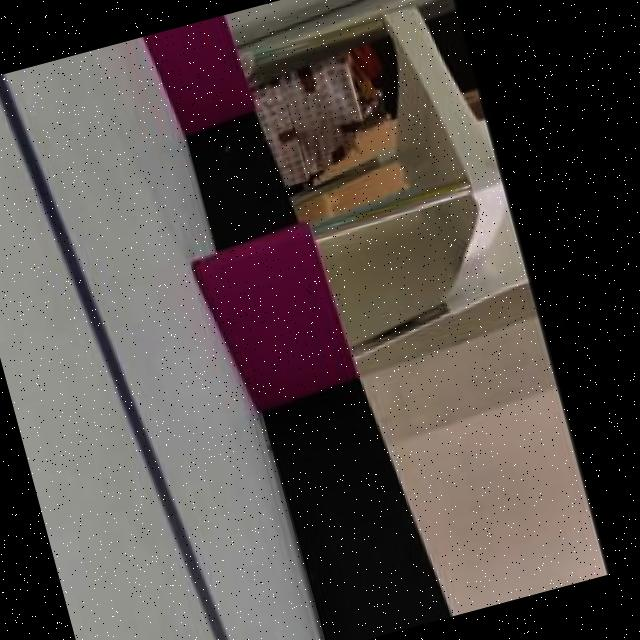xparking: (192, 228, 346, 404), (142, 15, 248, 124)
